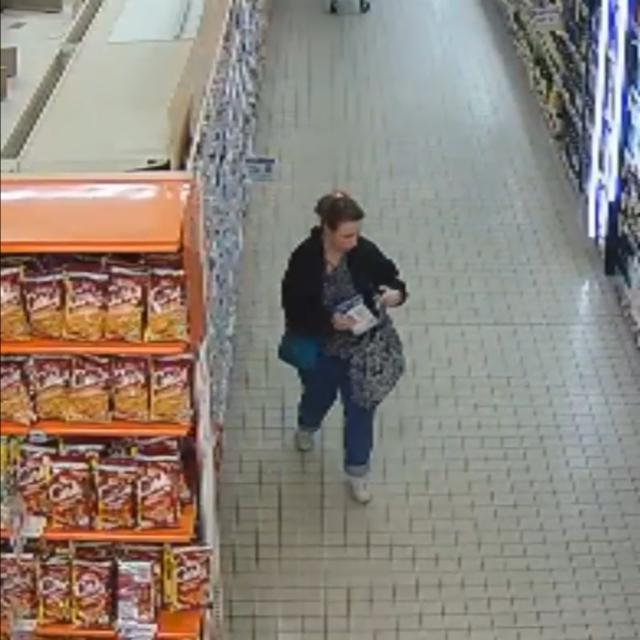article: (335, 291, 382, 339)
bags: (349, 317, 406, 408), (279, 332, 321, 370)
hands: (379, 287, 402, 308), (332, 314, 356, 331)
person: (282, 192, 407, 503)
